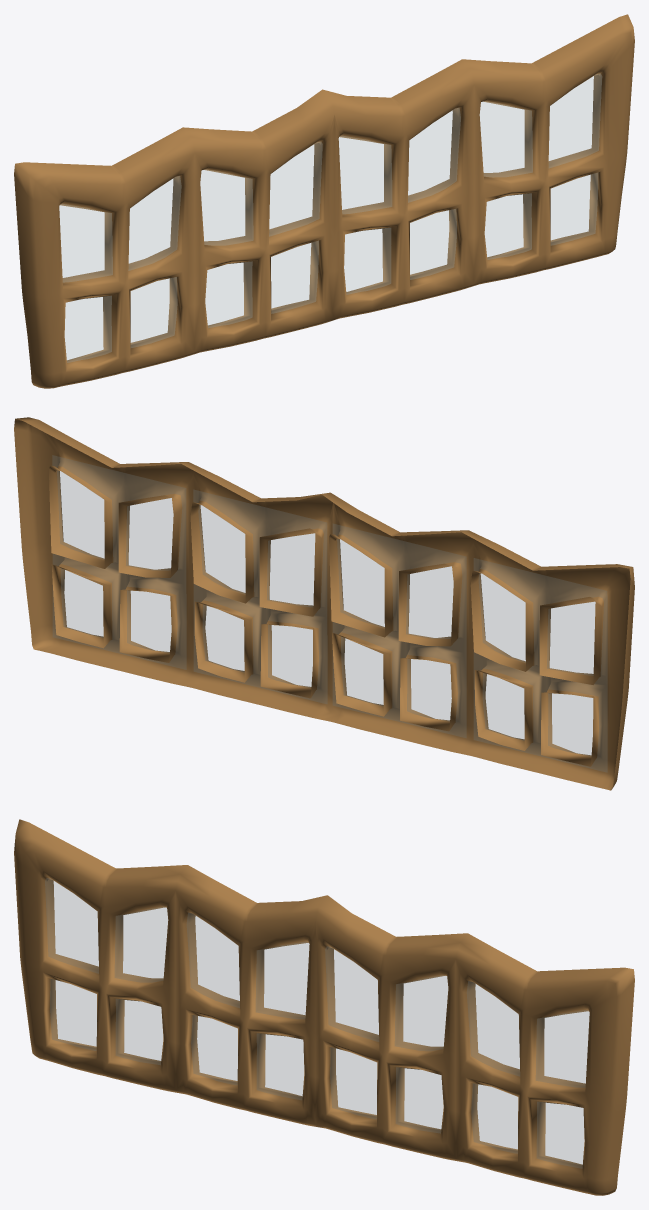
The model's file is props_quadruple_windows.fbx.
The picture shows the model from 3 angles, top to bottom: view 1: azimuth 30°, elevation 25°; view 2: azimuth 150°, elevation 25°; view 3: azimuth 330°, elevation 25°; orthographic projection.
Parts seen in each view (by area): view 1: Props_window1.001; view 2: Props_window1.001; view 3: Props_window1.001.
Boxes of the visible parts, box(x1,y1,x2,y2) form: Props_window1.001: box(14, 14, 634, 388); Props_window1.001: box(14, 417, 634, 790); Props_window1.001: box(14, 819, 634, 1195).
Bounding box in the file's own units: 591 × 208 × 23.
